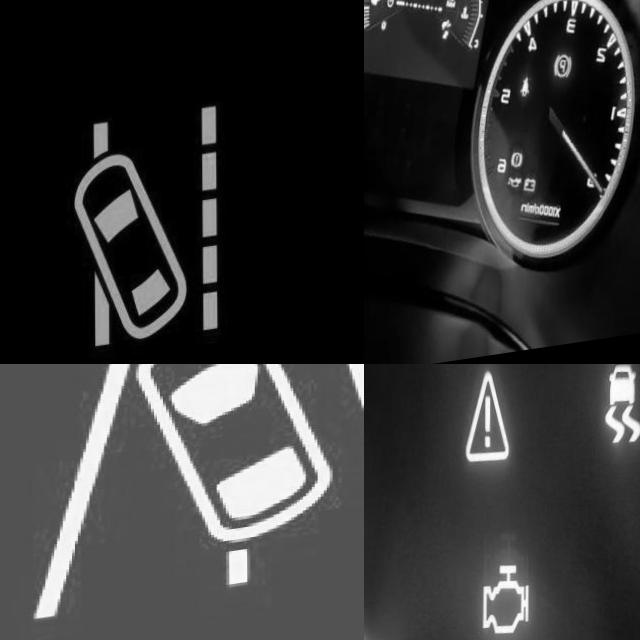Seat Belt: (518, 87, 530, 111)
